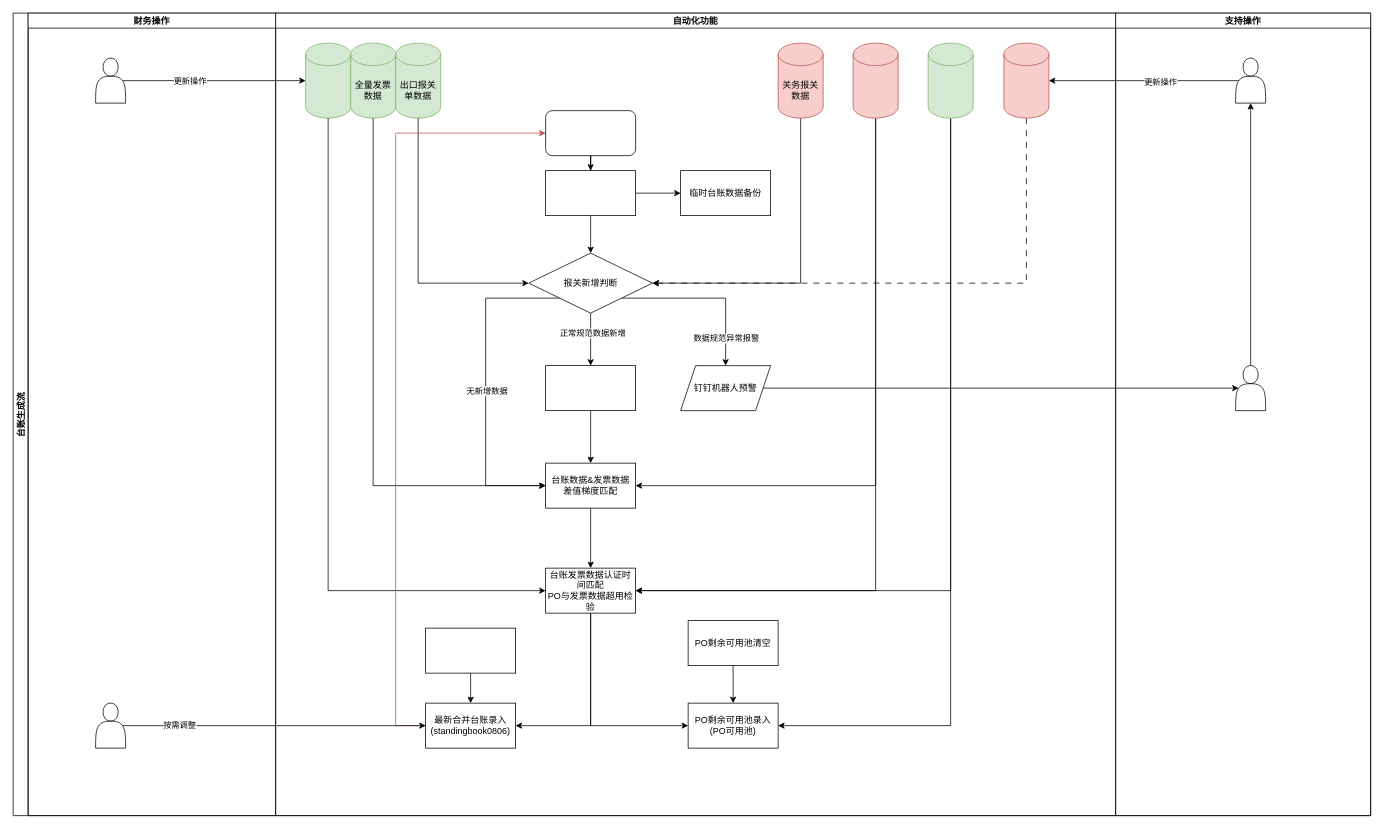
Some shapes in this 1384 by 829 pixel diagram are drawn without their labels. The centre of each missing label's shape, as x and y in pixels:
"历史台账数据清空" goes at (x=470, y=650).
"发票认证数据" goes at (x=328, y=80).
"台账数据" goes at (x=590, y=133).
"台账数据抽取" goes at (x=590, y=193).
"手工报关数据" goes at (x=1026, y=80).
"新增台账数据合并" goes at (x=590, y=388).
"系统PO数据" goes at (x=950, y=80).
"采购开票数据" goes at (x=875, y=80).
